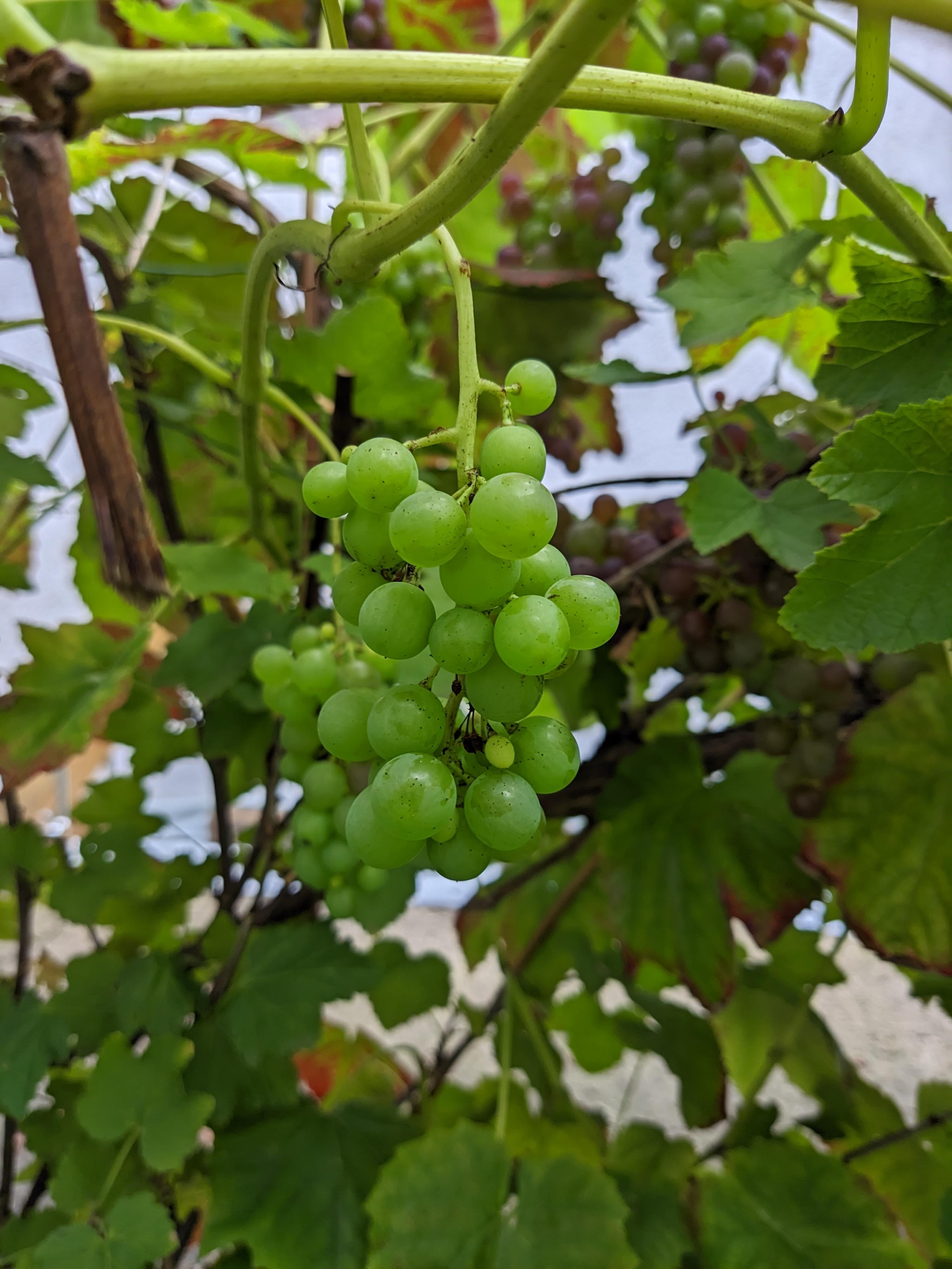Grape Unripe: (304, 364, 623, 907), (567, 423, 935, 820), (251, 624, 430, 916), (627, 0, 824, 234)
